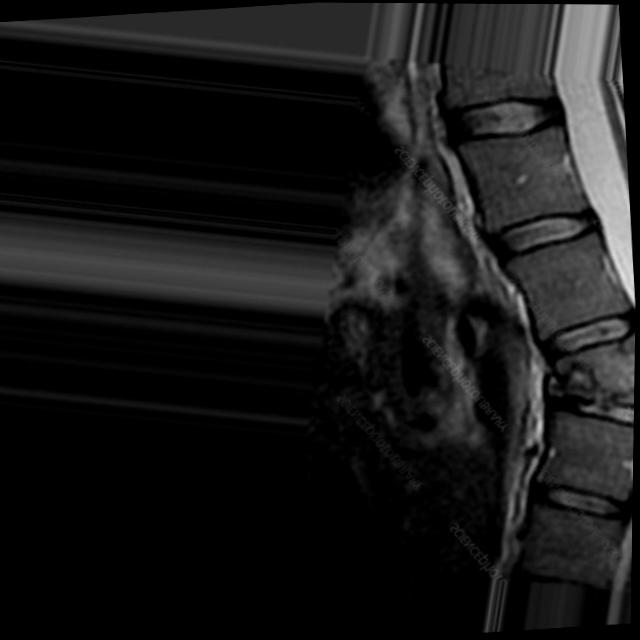Greenstick: (532, 303, 637, 433)
